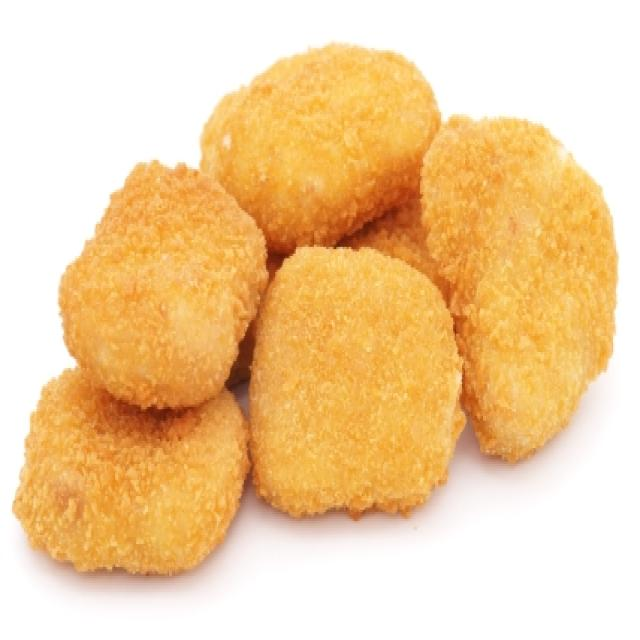鸡肉料理 含炸鸡: (9, 32, 619, 599)
